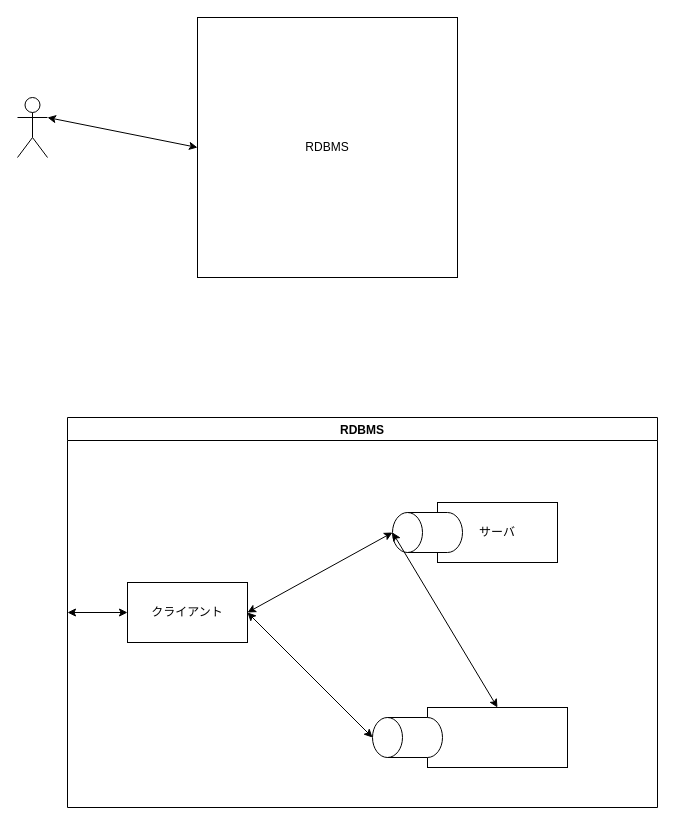
Some shapes in this 675 by 825 pixel diagram are drawn without their labels. Each missing label, with the centre of its shape:
"Actor" belongs at point (32, 127).
"サーバ （レプリケーション）" belongs at point (497, 737).
